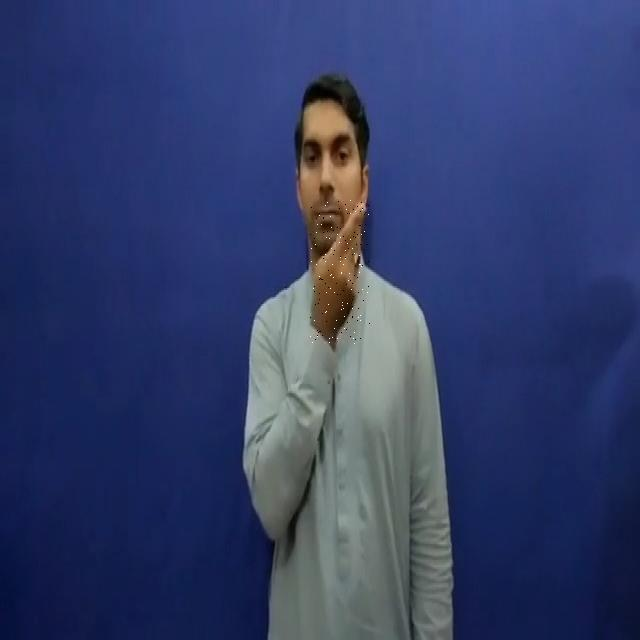napkin: (310, 200, 370, 344)
